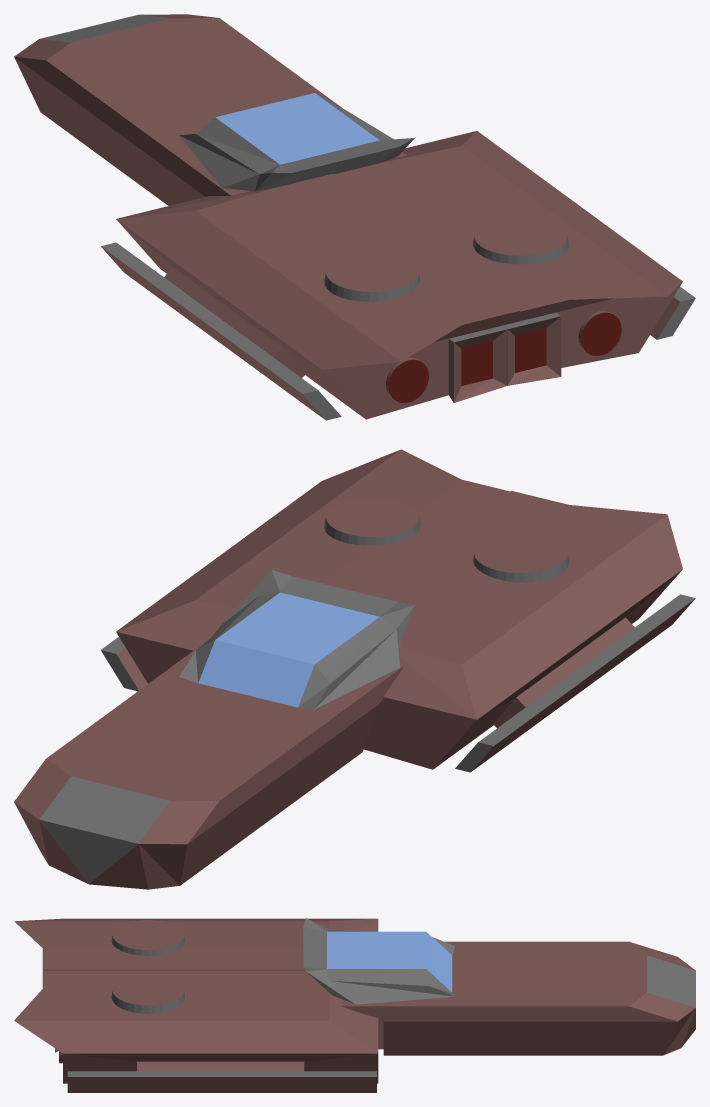
The model's file is ship4.fbx.
3 renders of one model, top to bottom at view 1: azimuth 30°, elevation 25°; view 2: azimuth 150°, elevation 25°; view 3: azimuth 270°, elevation 25°, orthographic. The views are drawn at different scales.
Parts seen in each view (by area): view 1: Cube; view 2: Cube; view 3: Cube.
Boxes of the visible parts, bbox=[...] form: Cube: bbox=[14, 14, 695, 420]; Cube: bbox=[14, 449, 695, 889]; Cube: bbox=[14, 918, 695, 1092].
Bounding box in the file's own units: 7.73 × 2.15 × 15.16.
